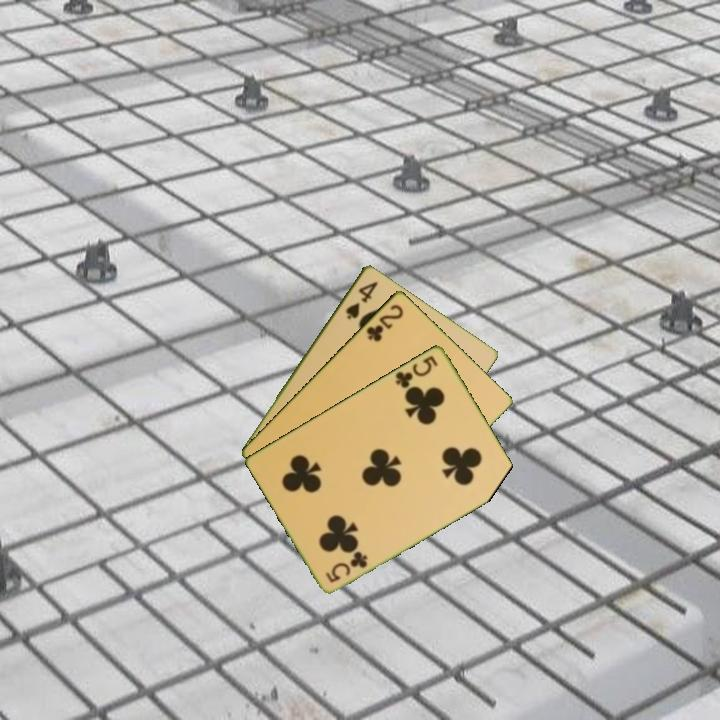2c: (363, 301, 406, 344)
4s: (342, 277, 381, 322)
5c: (392, 352, 441, 391), (322, 547, 371, 585)
